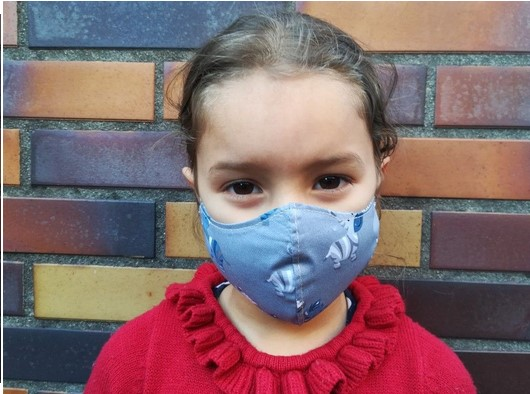face_with_mask: (181, 19, 394, 331)
